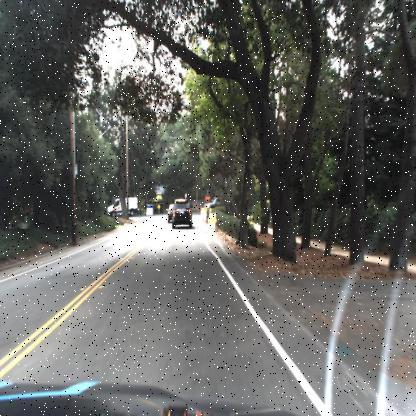car: (170, 195, 193, 230), (202, 191, 222, 209), (167, 202, 175, 221), (168, 201, 173, 225)
truck: (107, 193, 140, 218)
